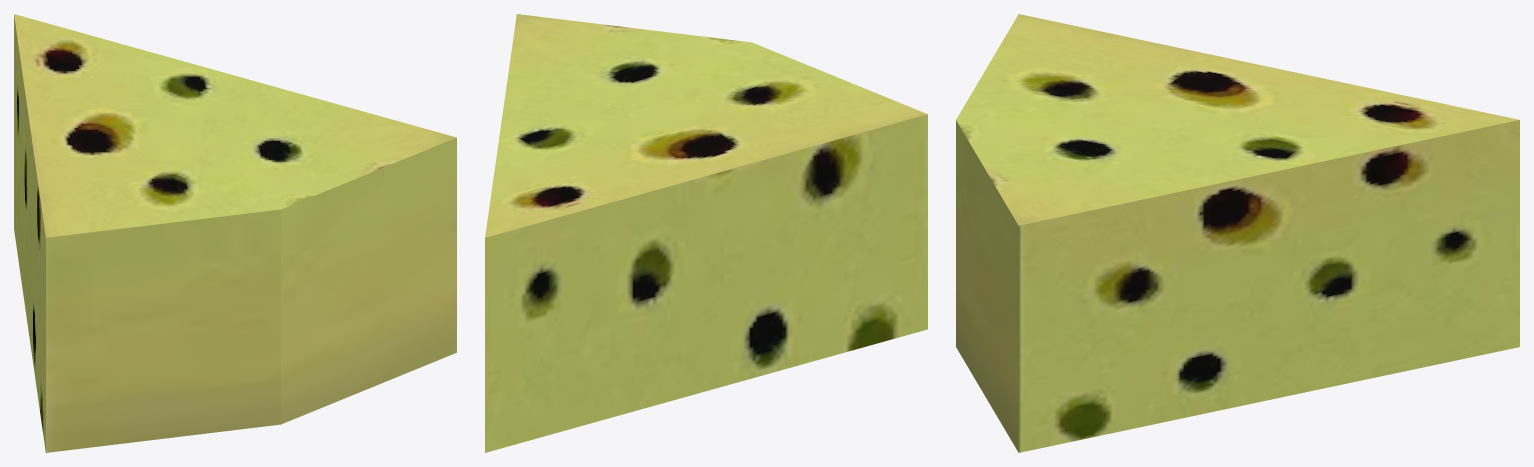
Rendered from ITFO_CHEESE.glb.
3 views of the same model, side by side, from view 1: azimuth 30°, elevation 25°; view 2: azimuth 150°, elevation 25°; view 3: azimuth 270°, elevation 25° (orthographic). The views are drawn at different scales.
Visible parts, largest first — view 1: ITFO_CHEESE; view 2: ITFO_CHEESE; view 3: ITFO_CHEESE.
Part boxes in pixels (x1,y1,x2,y2): ITFO_CHEESE: (14,14,456,452); ITFO_CHEESE: (485,14,927,452); ITFO_CHEESE: (956,14,1519,452).
Size of the model in its own units: 0.2 by 0.1 by 0.225.
1 material, 1 textured.
